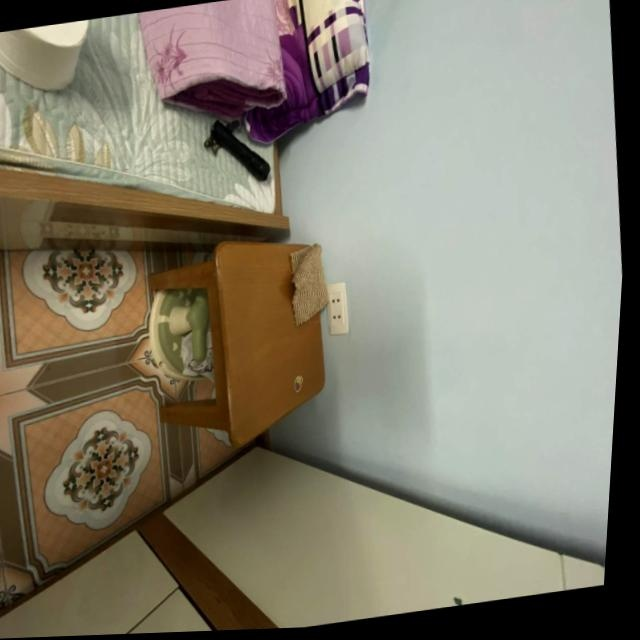outlet: (322, 281, 351, 336)
